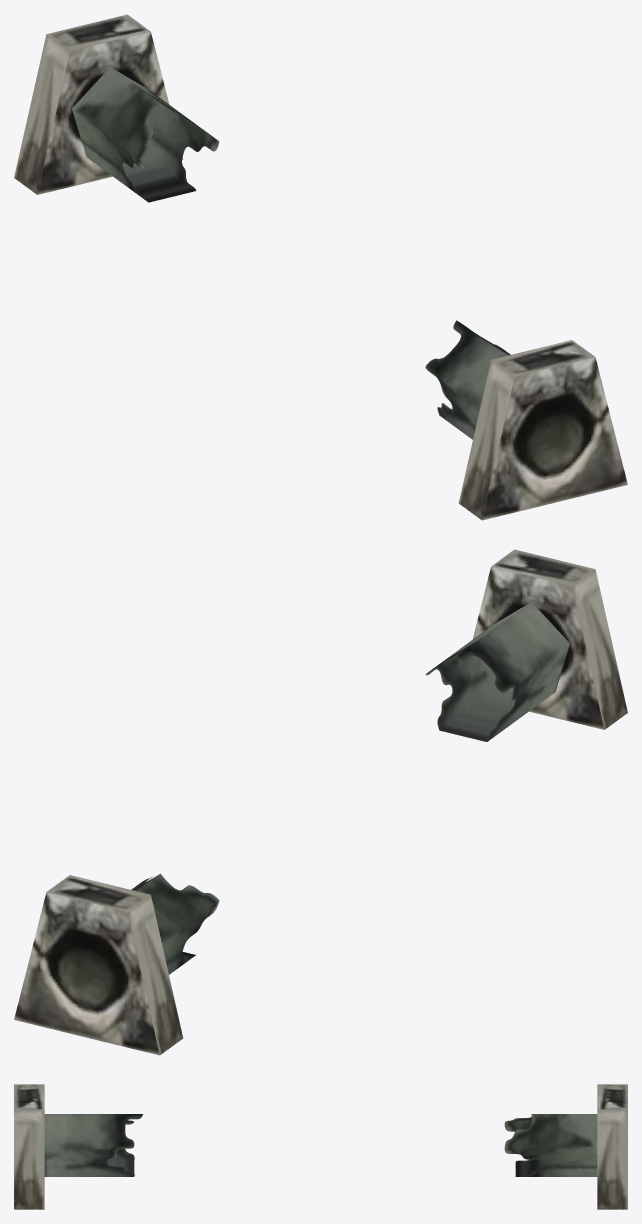
The model's file is straightpipe2_dam_hdtex.glb.
The picture shows the model from 3 angles, top to bottom: view 1: azimuth 30°, elevation 25°; view 2: azimuth 150°, elevation 25°; view 3: azimuth 270°, elevation 25°; orthographic projection. The views are drawn at different scales.
Parts seen in each view (by area): view 1: sp2; view 2: sp2; view 3: sp2.
Boxes of the visible parts, <box> form: sp2: <box>14,14,627,520</box>; sp2: <box>14,549,627,1055</box>; sp2: <box>14,1084,627,1209</box>.
Size of the model in its own units: 3.07 by 2.73 by 17.04.
1 material, 1 textured.
